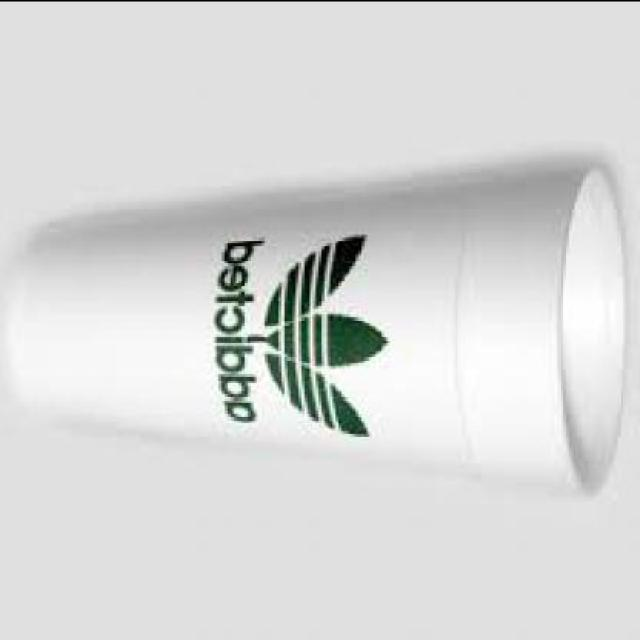PAPER: (2, 165, 628, 498)
